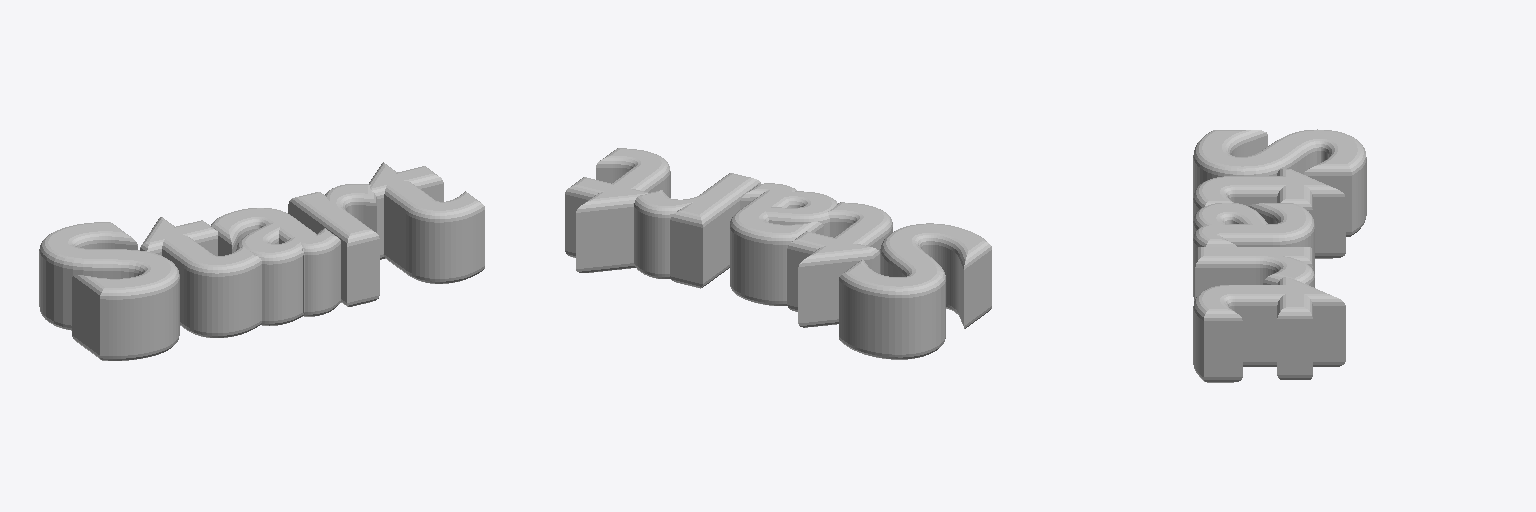
File: start_button.obj
3 renders of one model, left to right at view 1: azimuth 30°, elevation 25°; view 2: azimuth 150°, elevation 25°; view 3: azimuth 270°, elevation 25°, orthographic.
Visible parts, largest first — view 1: Text; view 2: Text; view 3: Text.
Boxes of the visible parts, x1,y1,x2,y2 form: Text: [39, 162, 484, 360]; Text: [565, 148, 991, 359]; Text: [1193, 129, 1366, 382].
Size of the model in its own units: 1.99 by 0.36 by 0.7801.